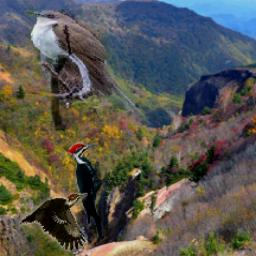Cuckoo: (25, 11, 153, 132)
Woodpecker: (68, 140, 110, 237), (19, 193, 88, 251)
